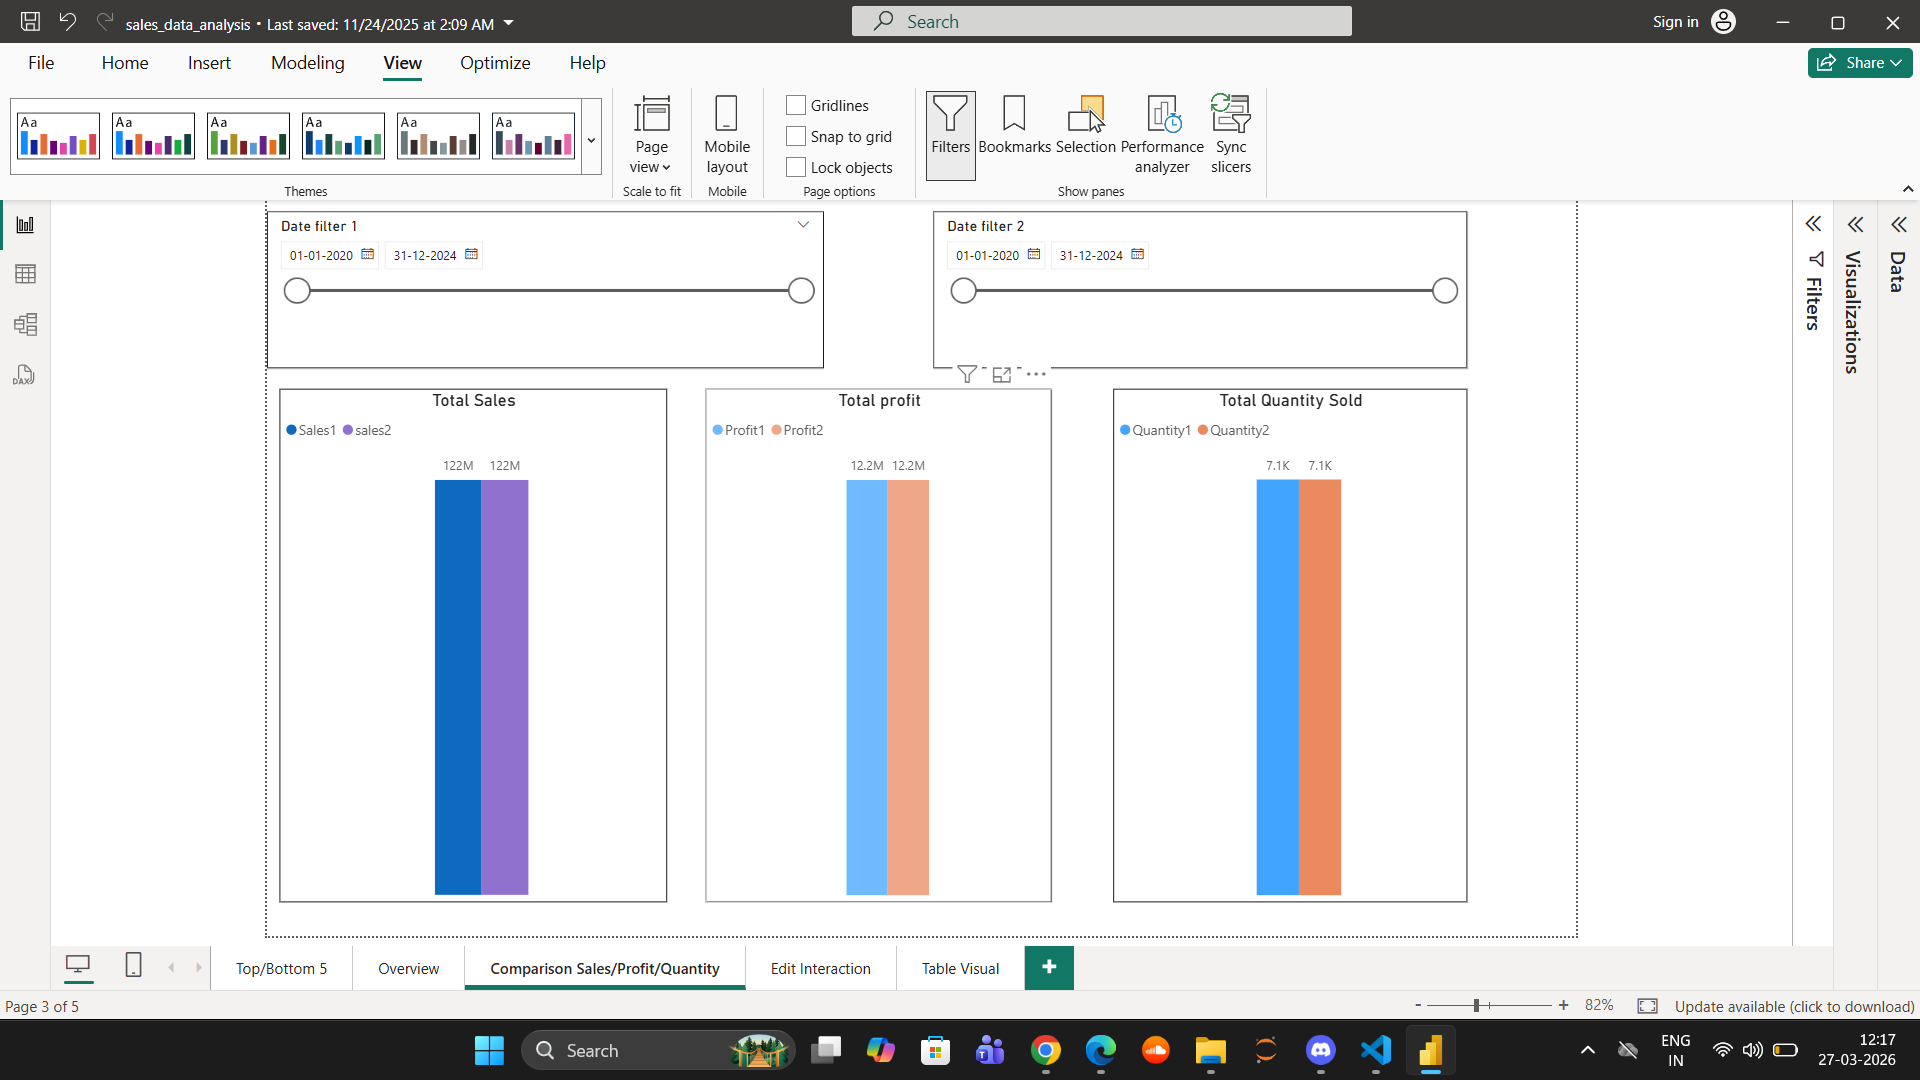

What the dashboard file says about the page in this screenshot:
{"tool":"powerbi","page":{"name":"Comparison Sales/Profit/Quantity","canvas":[1280,720],"ordinal":2},"visuals":[{"type":"slicer","fields":{"Values":["Date Table 1.Date"]},"box":[0,11.1,544.4,153.3],"z":0},{"type":"slicer","fields":{"Values":["Date Table 2.Date"]},"box":[652.2,11.1,522.2,153.3],"z":1000},{"type":"clusteredColumnChart","title":"Total Sales","fields":{"Y":["Sum(Fact Table.Net Sales)","Date Table 1.sum of net sales"]},"box":[12.2,184.4,378.9,502.2],"z":2000},{"type":"clusteredColumnChart","title":"Total profit","fields":{"Y":["Sum(Fact Table.Profit)","Measures Table.Total Profit"]},"box":[429.2,184.6,338.7,502.6],"z":3000},{"type":"clusteredColumnChart","title":"Total Quantity Sold","fields":{"Y":["Sum(Fact Table.Units Sold)","Measures Table.Total Quantity Sold"]},"box":[827.9,184.6,346.1,502.6],"z":4000}]}

Visuals, with their boxes on the page's 1280x720 design canvas (x1, y1, x2, y2). These are canvas units, not pixel positions in the 1920x1080 screenshot, which may show the page scaled, cropped or inside an application window:
slicer - Date Table 1.Date: (x1=0, y1=11, x2=544, y2=164)
slicer - Date Table 2.Date: (x1=652, y1=11, x2=1174, y2=164)
"Total Sales" clusteredColumnChart: (x1=12, y1=184, x2=391, y2=687)
"Total profit" clusteredColumnChart: (x1=429, y1=185, x2=768, y2=687)
"Total Quantity Sold" clusteredColumnChart: (x1=828, y1=185, x2=1174, y2=687)
